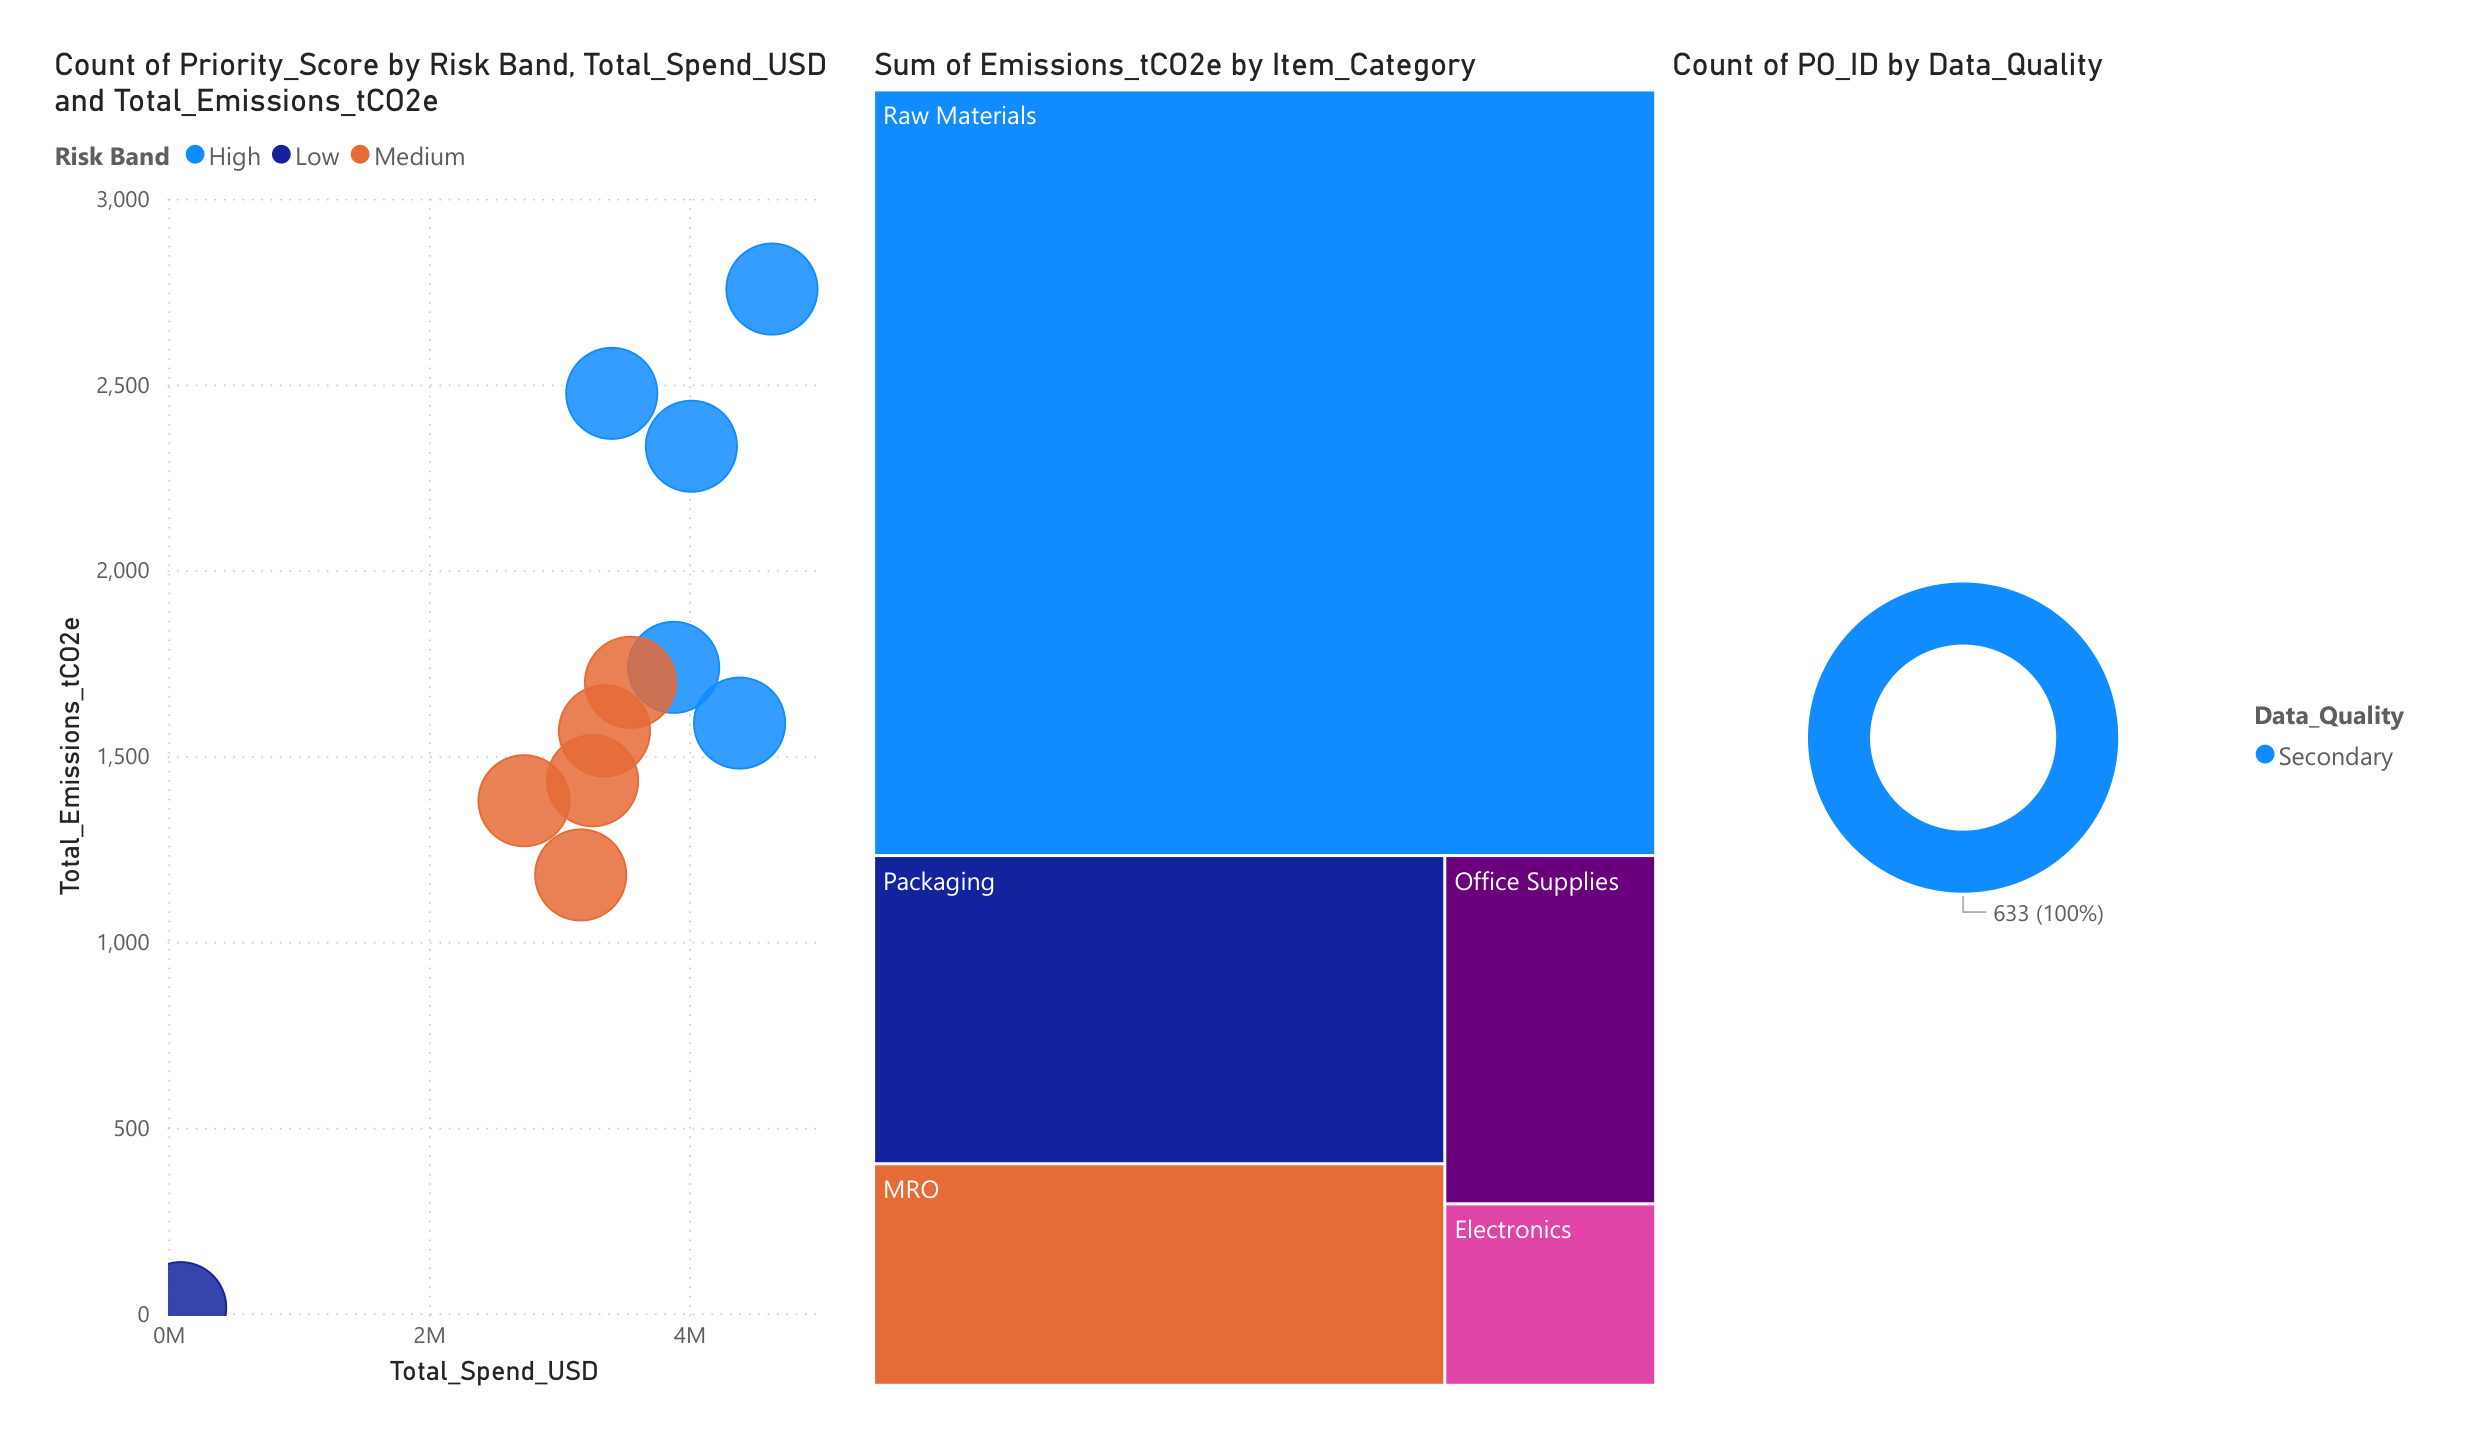

The page's visual inventory and layout, read from the dashboard file:
{"tool":"powerbi","page":{"name":"Page 2","canvas":[1280,720],"ordinal":1},"visuals":[{"type":"scatterChart","fields":{"X":["supplier_summary_with_priority.Total_Spend_USD"],"Y":["supplier_summary_with_priority.Total_Emissions_tCO2e"],"Size":["CountNonNull(supplier_summary_with_priority.Priority_Score)"],"Series":["supplier_summary_with_priority.Risk Band"]},"box":[0,0,426.7,720],"z":0},{"type":"treemap","fields":{"Group":["line_level_emissions_with_imputation.Item_Category"],"Values":["Sum(line_level_emissions_with_imputation.Emissions_tCO2e)"]},"box":[437,0,427,720],"z":1000},{"type":"donutChart","fields":{"Category":["line_level_emissions_with_imputation.Data_Quality"],"Y":["CountNonNull(line_level_emissions_with_imputation.PO_ID)"]},"box":[863.3,0,416.7,720],"z":2000}]}

Visuals, with their boxes in screenshot pixels (x1, y1, x2, y2), scaled from the page's 1280x720 canvas onto the 2490x1440 screenshot:
scatterChart - supplier_summary_with_priority.Total_Spend_USD x supplier_summary_with_priority.Total_Emissions_tCO2e: bbox(0, 0, 830, 1439)
treemap - line_level_emissions_with_imputation.Item_Category x Sum(line_level_emissions_with_imputation.Emissions_tCO2e): bbox(850, 0, 1681, 1439)
donutChart - line_level_emissions_with_imputation.Data_Quality x CountNonNull(line_level_emissions_with_imputation.PO_ID): bbox(1679, 0, 2489, 1439)
